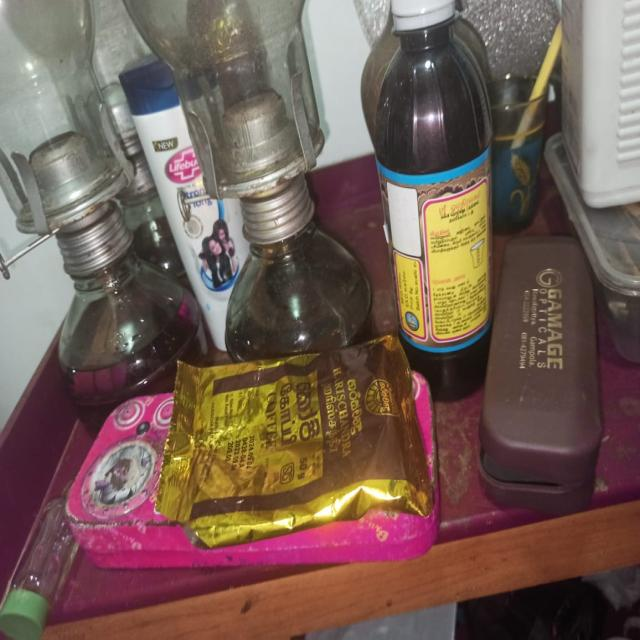Harischandra Coffee: (140, 341, 427, 551)
